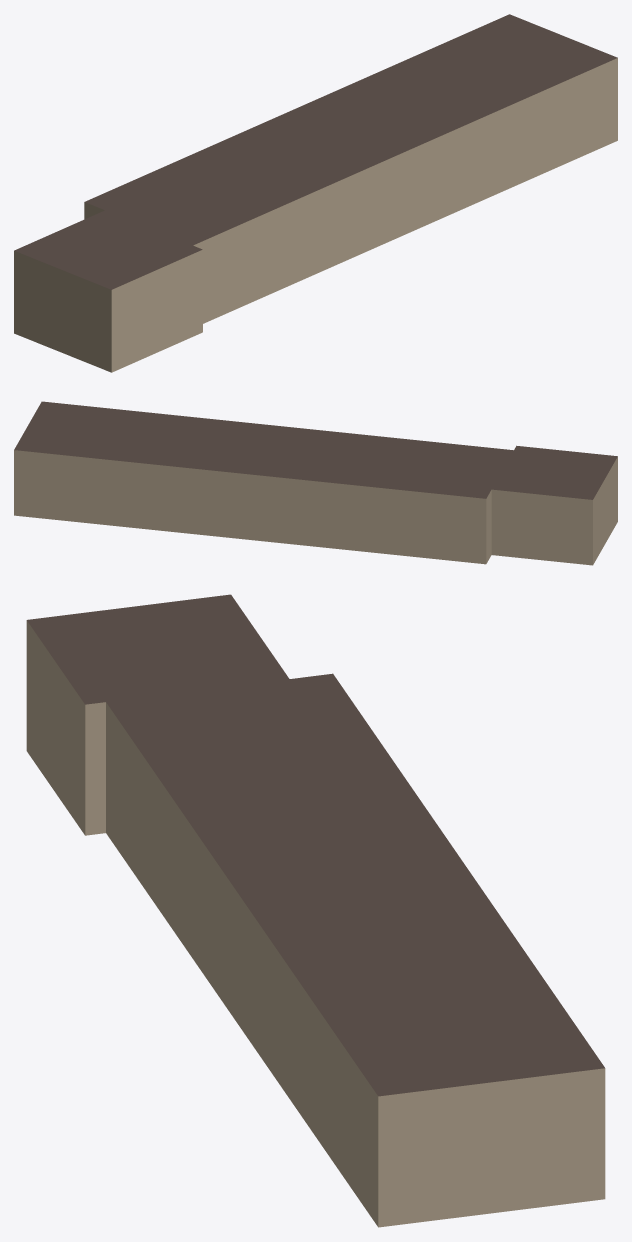
The picture shows the model from 3 angles, top to bottom: view 1: azimuth 30°, elevation 25°; view 2: azimuth 150°, elevation 25°; view 3: azimuth 270°, elevation 25°; orthographic projection. The views are drawn at different scales.
Parts seen in each view (by area): view 1: HP-w1202494178; view 2: HP-w1202494178; view 3: HP-w1202494178.
Boxes of the visible parts, x1,y1,x2,y2 form: HP-w1202494178: (14,14,617,372); HP-w1202494178: (14,401,617,565); HP-w1202494178: (26,594,605,1227).
Size of the model in its own units: 73.95 by 9 by 36.03.
